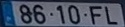0: (66, 3, 81, 25)
1: (55, 4, 66, 25)
6: (31, 3, 46, 24)
8: (18, 3, 32, 25)
F: (88, 4, 102, 25)
L: (103, 5, 118, 25)
